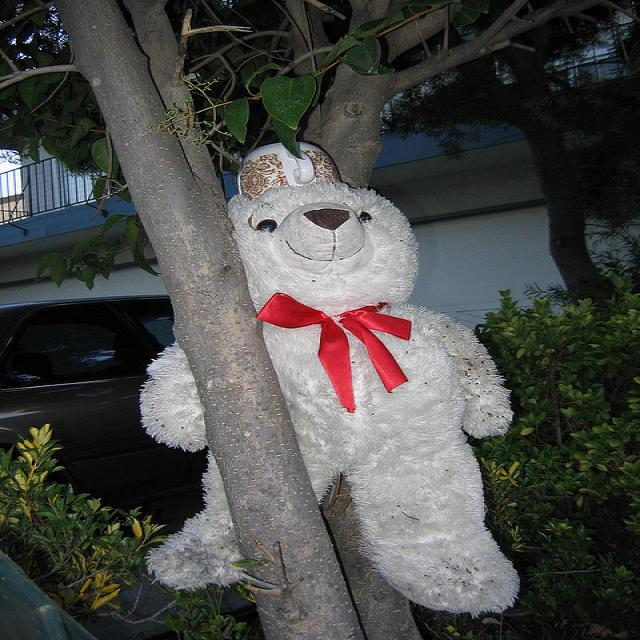Vehicle: (0, 293, 213, 526)
